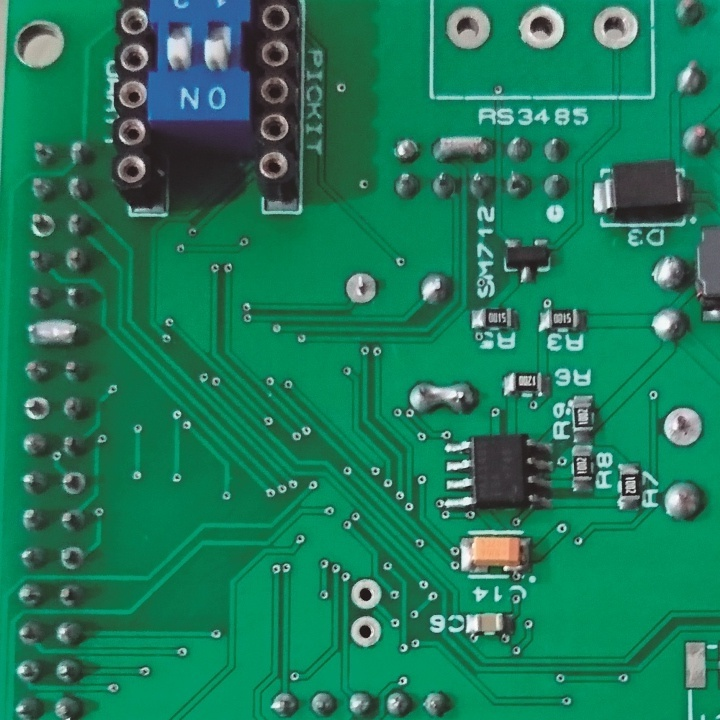F: (517, 3, 573, 56), (442, 6, 493, 52), (590, 5, 639, 52), (660, 404, 704, 452), (344, 269, 379, 306), (350, 614, 381, 652), (350, 579, 382, 609), (58, 542, 85, 572), (28, 212, 56, 240), (24, 395, 50, 421), (63, 472, 87, 497)
P: (409, 380, 476, 413), (24, 317, 86, 349), (435, 135, 494, 163)
